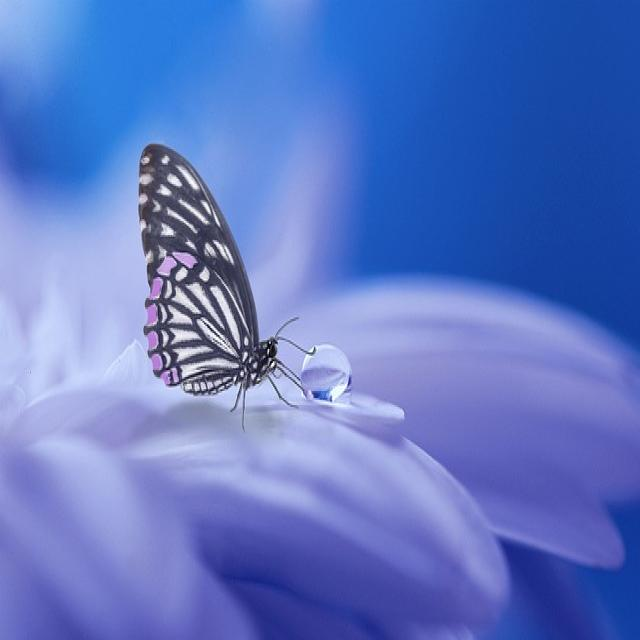butterfly: (136, 139, 320, 437)
